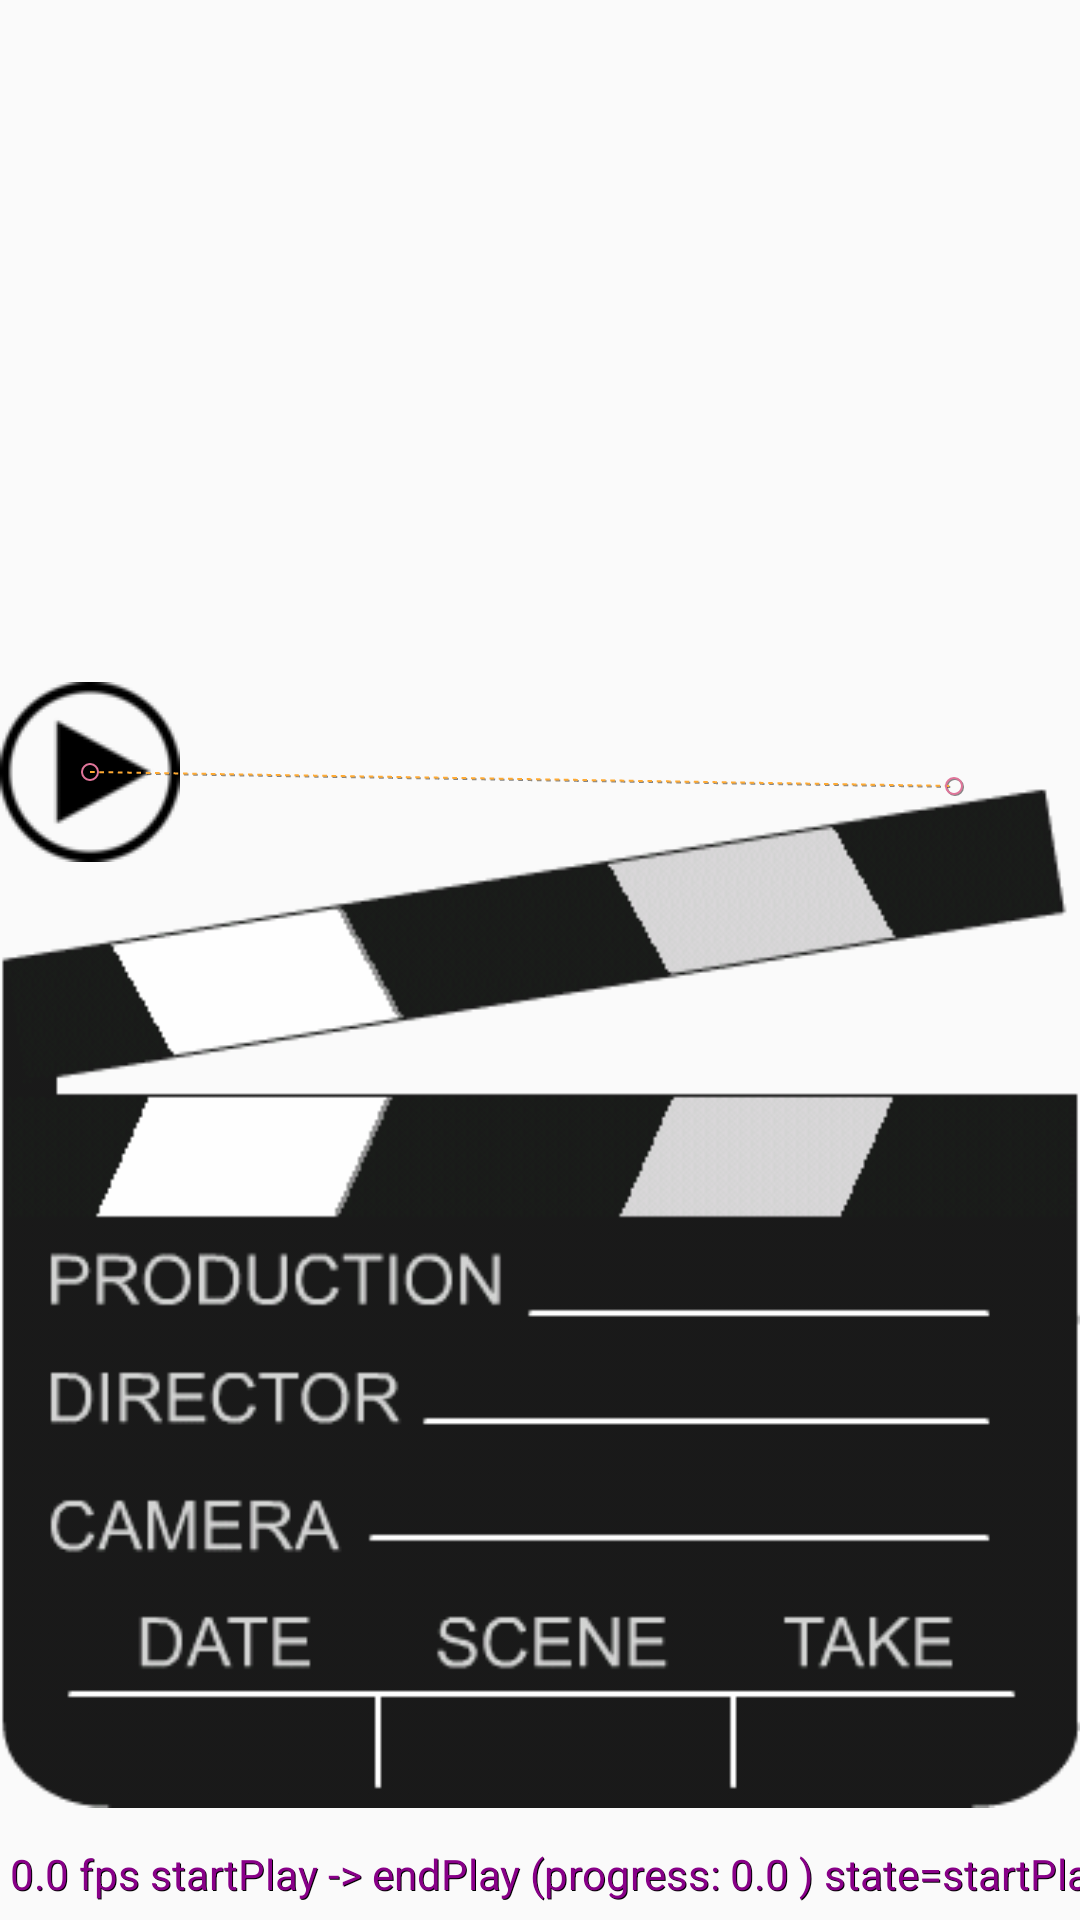

Where to tap for icons on this 1080*1920 app screen, as point (x, y):
play: point (90, 772)
